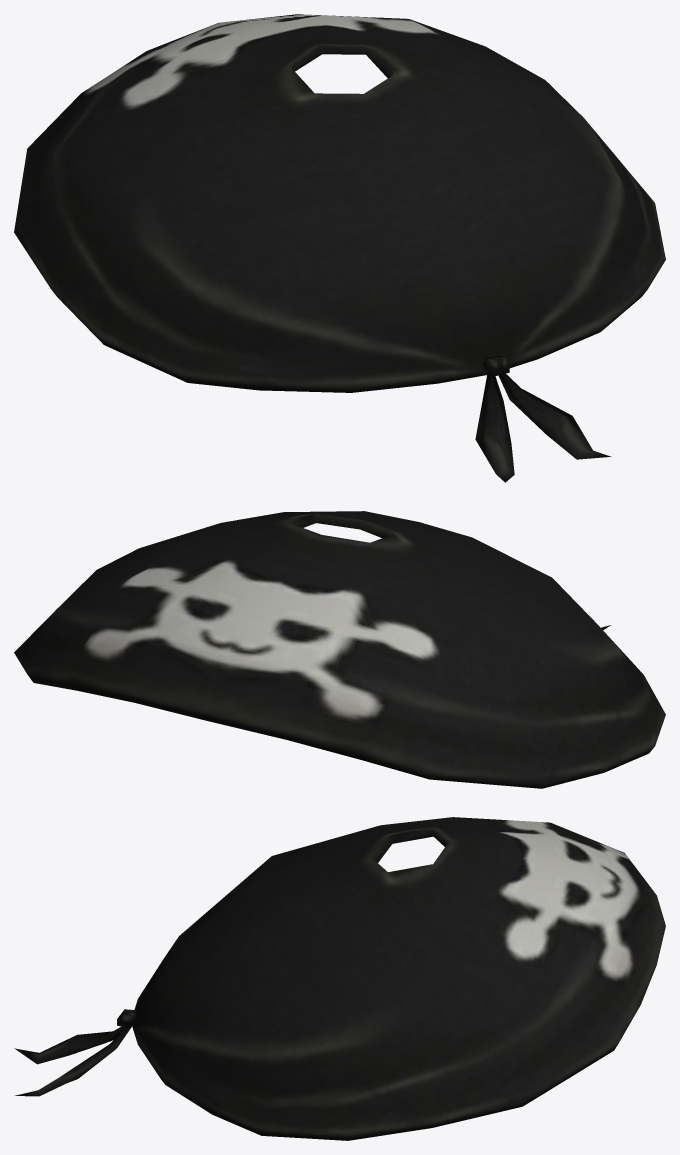
The model's file is pirateBandanaR.glb.
The picture shows the model from 3 angles, top to bottom: view 1: azimuth 30°, elevation 25°; view 2: azimuth 150°, elevation 25°; view 3: azimuth 270°, elevation 25°; orthographic projection. The views are drawn at different scales.
Visible parts, largest first — view 1: pirateBandanaR; view 2: pirateBandanaR; view 3: pirateBandanaR.
Boxes of the visible parts, left/top/right/bottom form: pirateBandanaR: left=14, top=14, right=665, bottom=482; pirateBandanaR: left=14, top=511, right=665, bottom=788; pirateBandanaR: left=14, top=817, right=665, bottom=1140.
Bounding box in the file's own units: 1.36 × 0.5972 × 1.49.
1 material, 1 textured.
